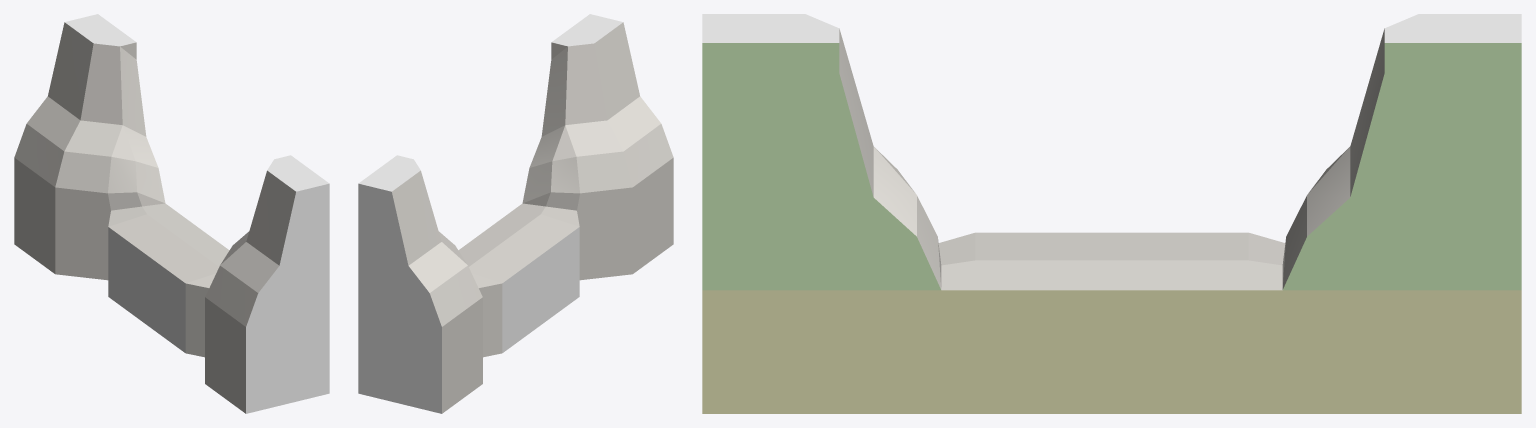
File: Cliff_Cave_Entrance_Straight_Wide_Base.glb
3 renders of one model, left to right at view 1: azimuth 30°, elevation 25°; view 2: azimuth 150°, elevation 25°; view 3: azimuth 270°, elevation 25°, orthographic. The views are drawn at different scales.
Parts seen in each view (by area): view 1: Cave_Edge_Straight_Base_2x2 (×2), Cave_Center_Base_1x1; view 2: Cave_Edge_Straight_Base_2x2 (×2), Cave_Center_Base_1x1; view 3: Cave_Edge_Straight_Base_2x2 (×2), Cave_Center_Base_1x1.
Boxes of the visible parts, <box> form: Cave_Edge_Straight_Base_2x2 (×2): <box>14,14,329,413</box>; Cave_Center_Base_1x1: <box>108,210,229,352</box>; Cave_Edge_Straight_Base_2x2 (×2): <box>358,14,673,413</box>; Cave_Center_Base_1x1: <box>458,210,579,352</box>; Cave_Edge_Straight_Base_2x2 (×2): <box>702,14,1521,413</box>; Cave_Center_Base_1x1: <box>975,232,1248,413</box>.
Bounding box in the file's own units: 125 × 300 × 600.
